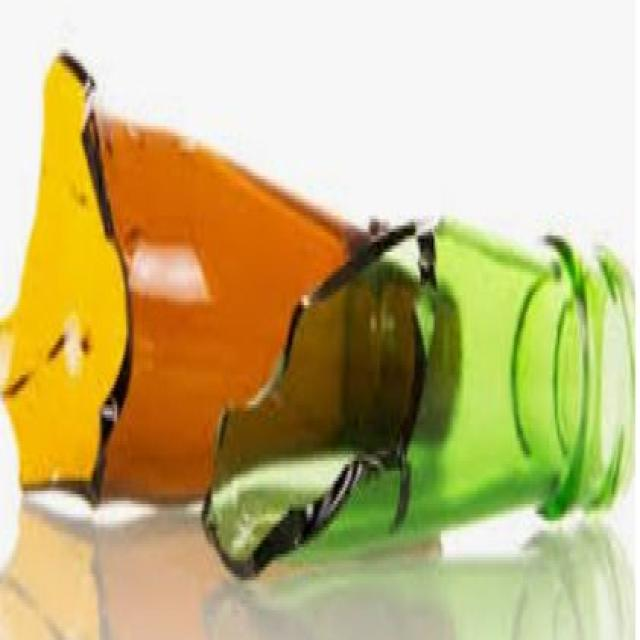electronic: (2, 45, 464, 522), (200, 219, 640, 583)
